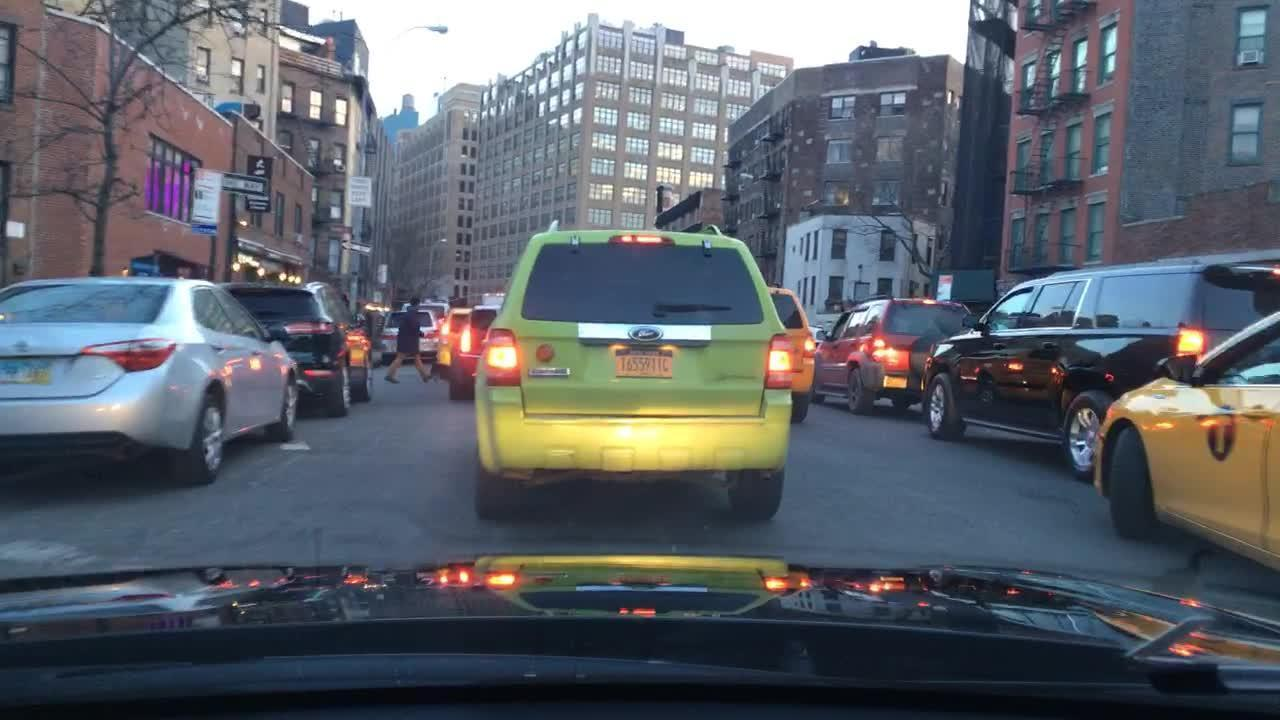ford: (623, 319, 666, 350)
